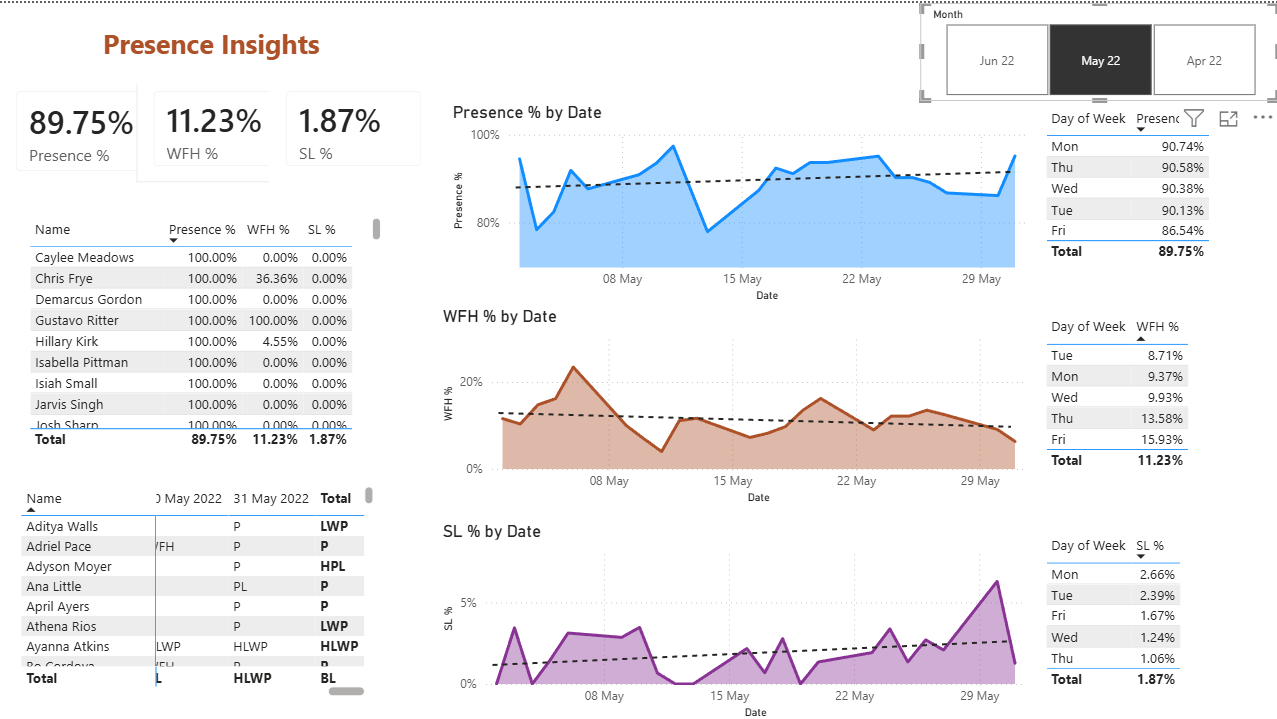

What the dashboard file says about the page in this screenshot:
{"tool":"powerbi","page":{"name":"Presence insights","canvas":[1280,720],"ordinal":0},"visuals":[{"type":"cardVisual","fields":{"Data":["Measure Table.Presence %"]},"box":[0,71,182,114],"z":2000},{"type":"slicer","fields":{"Values":["Final Data.Month"]},"box":[921,0,359,99],"z":3000},{"type":"cardVisual","fields":{"Data":["Measure Table.WFH %"]},"box":[138,71,169,109],"z":4000},{"type":"cardVisual","fields":{"Data":["Measure Table.SL %"]},"box":[270,71,169,109],"z":5000},{"type":"tableEx","fields":{"Values":["Final Data.Name","Measure Table.Presence %","Measure Table.WFH %","Measure Table.SL %"]},"box":[25,210,362,241],"z":5001},{"type":"textbox","box":[99,18,228,63],"z":5002},{"type":"pivotTable","fields":{"Rows":["Final Data.Name"],"Columns":["Final Data.Date"],"Values":["Min(Final Data.Value)"]},"box":[18,479,362,219],"z":5003},{"type":"areaChart","fields":{"Category":["Final Data.Date"],"Y":["Measure Table.Presence %"]},"box":[448.8,98.8,592.5,203.8],"z":5004},{"type":"areaChart","fields":{"Category":["Final Data.Date"],"Y":["Measure Table.WFH %"]},"box":[438.8,302.5,602.5,202.5],"z":5005},{"type":"areaChart","fields":{"Category":["Final Data.Date"],"Y":["Measure Table.SL %"]},"box":[438.8,517.5,602.5,202.5],"z":5006},{"type":"tableEx","fields":{"Values":["Final Data.Day of Week","Measure Table.Presence %"]},"box":[1041.2,98.8,192.5,171.2],"z":5007},{"type":"tableEx","fields":{"Values":["Final Data.Day of Week","Measure Table.WFH %"]},"box":[1041.2,307.5,177.5,171.2],"z":5008},{"type":"tableEx","fields":{"Values":["Final Data.Day of Week","Measure Table.SL %"]},"box":[1041.2,526.2,192.5,171.2],"z":5009}]}

Visuals, with their boxes in screenshot pixels (x1, y1, x2, y2), scaled from the page's 1280x720 canvas onto the 1277x719 screenshot:
cardVisual - Measure Table.Presence %: x1=0, y1=71, x2=182, y2=185
slicer - Final Data.Month: x1=919, y1=0, x2=1276, y2=99
cardVisual - Measure Table.WFH %: x1=138, y1=71, x2=306, y2=180
cardVisual - Measure Table.SL %: x1=269, y1=71, x2=438, y2=180
tableEx - Final Data.Name x Measure Table.Presence %: x1=25, y1=210, x2=386, y2=450
textbox: x1=99, y1=18, x2=326, y2=81
pivotTable - Final Data.Name x Final Data.Date: x1=18, y1=478, x2=379, y2=697
areaChart - Final Data.Date x Measure Table.Presence %: x1=448, y1=99, x2=1039, y2=302
areaChart - Final Data.Date x Measure Table.WFH %: x1=438, y1=302, x2=1039, y2=504
areaChart - Final Data.Date x Measure Table.SL %: x1=438, y1=517, x2=1039, y2=718
tableEx - Final Data.Day of Week x Measure Table.Presence %: x1=1039, y1=99, x2=1231, y2=270
tableEx - Final Data.Day of Week x Measure Table.WFH %: x1=1039, y1=307, x2=1216, y2=478
tableEx - Final Data.Day of Week x Measure Table.SL %: x1=1039, y1=525, x2=1231, y2=696
